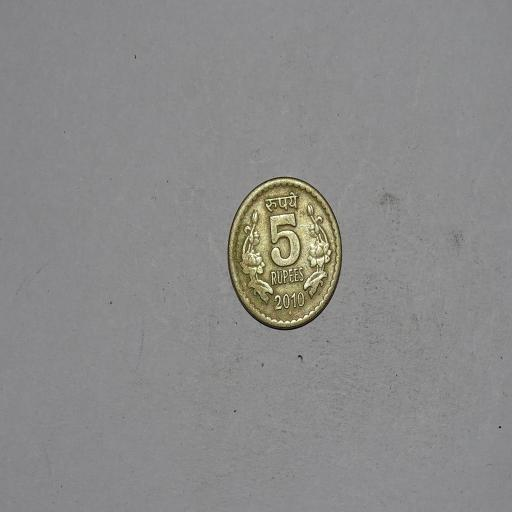rupee5: (222, 176, 339, 333)
